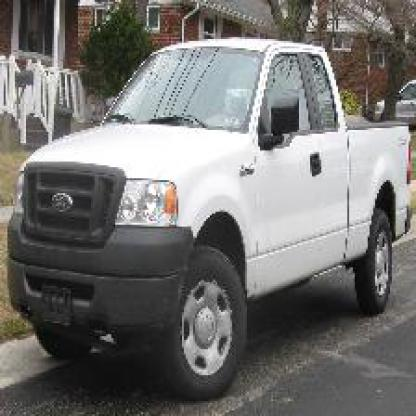emergency: (11, 28, 403, 392)
